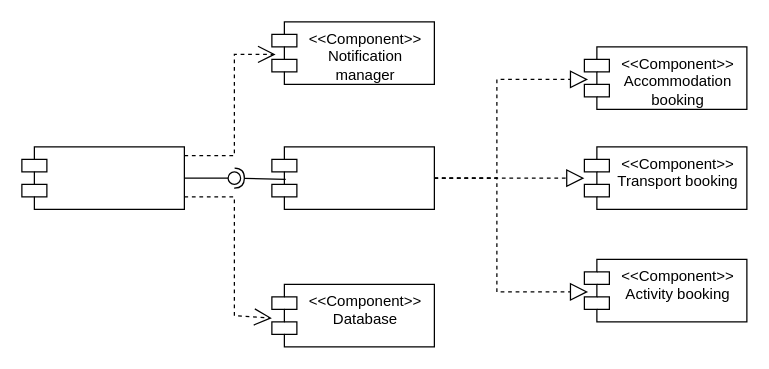
Image size: 769x369. Some labels were removed from this diagram. The centre of each missing label's shape, as x and y in pixels:
<<Component>> Booking manager: [102,177]
Booking strategy: [352,177]
